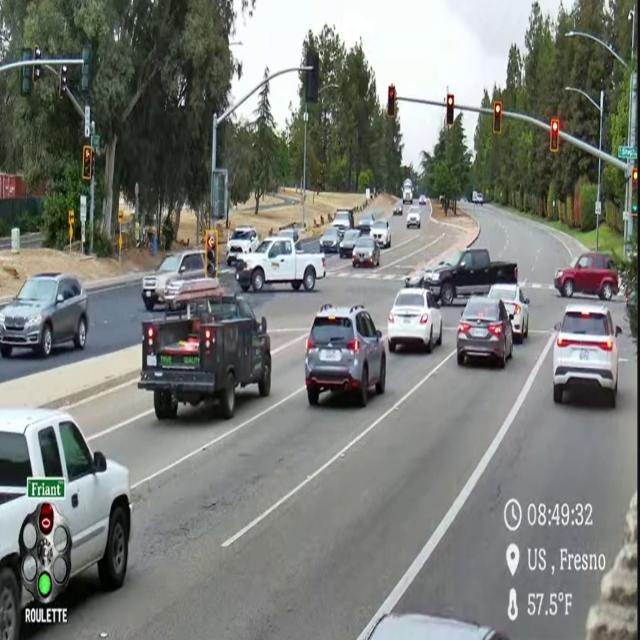car: (0, 408, 133, 639), (305, 304, 385, 407), (0, 273, 88, 358), (553, 304, 621, 407), (423, 248, 517, 305), (457, 296, 513, 367), (142, 248, 204, 311), (367, 614, 508, 639), (388, 288, 442, 352), (554, 253, 619, 300), (489, 284, 529, 343), (227, 226, 259, 265), (352, 236, 379, 267), (370, 220, 392, 248), (320, 226, 342, 254), (339, 230, 360, 257), (278, 228, 301, 250), (333, 209, 354, 233), (405, 268, 426, 287), (357, 213, 374, 235), (406, 207, 420, 229), (625, 287, 637, 309), (393, 200, 403, 215), (418, 195, 426, 205)
traffic signal: (306, 49, 320, 103), (204, 230, 217, 278), (81, 45, 91, 91), (20, 66, 32, 96), (82, 145, 92, 181), (58, 65, 68, 99), (387, 85, 396, 119), (493, 101, 502, 135), (550, 119, 559, 152), (446, 93, 454, 127), (632, 168, 637, 216), (32, 64, 41, 83), (632, 168, 637, 189)
truck: (0, 408, 132, 639), (138, 279, 271, 420), (405, 248, 517, 305), (235, 236, 325, 292), (403, 178, 413, 204), (472, 191, 483, 205)
